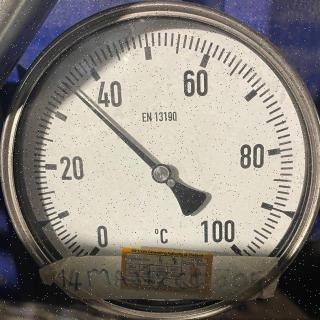gauge: (0, 0, 320, 320), (79, 232, 111, 264), (222, 232, 246, 258), (151, 162, 173, 185), (60, 78, 70, 89)
